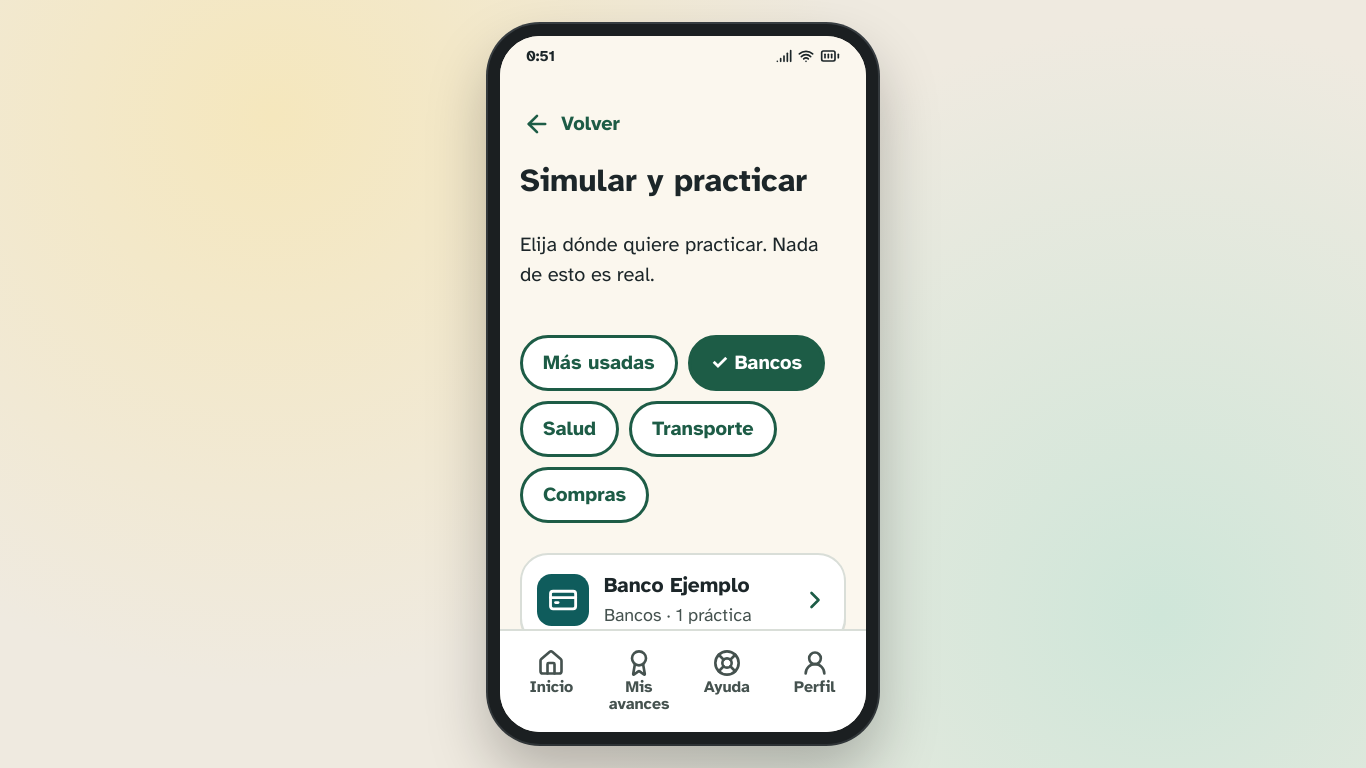
Test: pantalla 3: selección de plataforma › filtra por categoría desde los accesos rápidos
Expected: the button "Bancos" is shown, top-left (688, 335), bottom-right (825, 391)
Expected: the link "Banco Ejemplo Bancos · 1 práctica" is shown, top-left (520, 553), bottom-right (846, 629)
Click the button "Salud".
click(570, 429)  # box top-left (520, 401), bottom-right (619, 457)
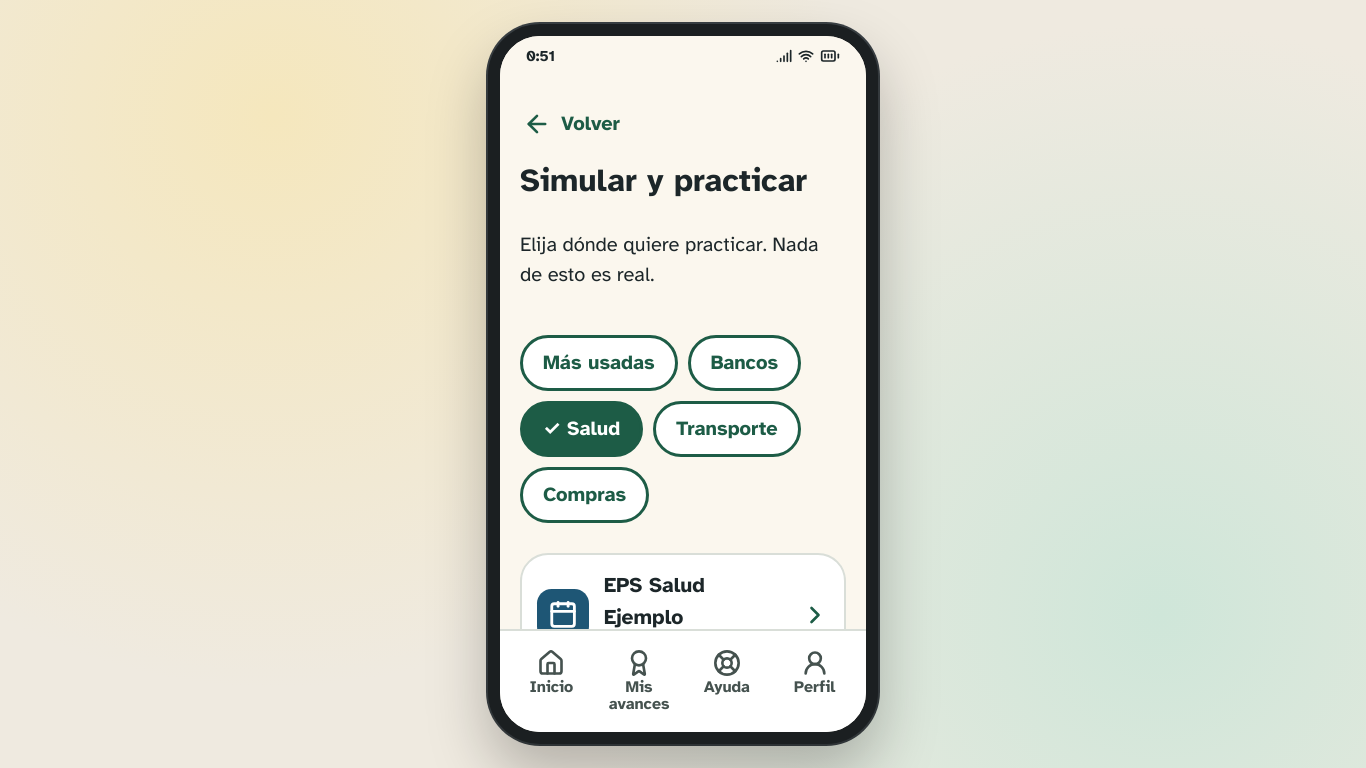
Expected: the link "EPS Salud Ejemplo Salud · 1 práctica" is shown, top-left (520, 553), bottom-right (846, 629)
